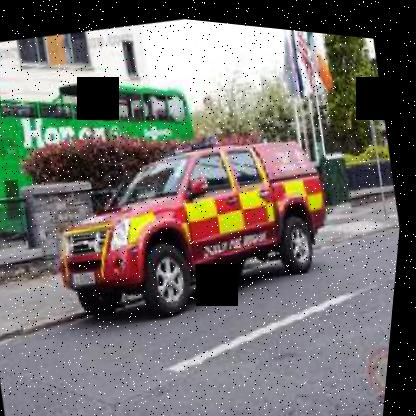emergency: (30, 85, 404, 356)
